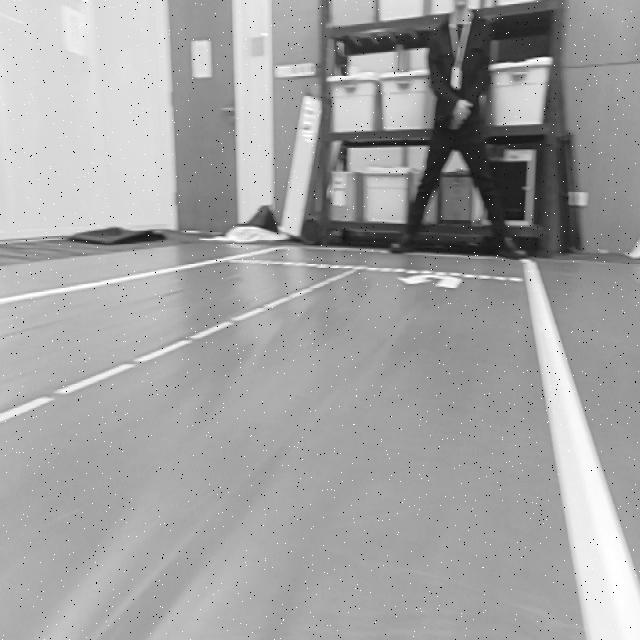left_lane: (0, 266, 359, 427)
right_lane: (523, 261, 640, 640), (0, 244, 282, 306)
